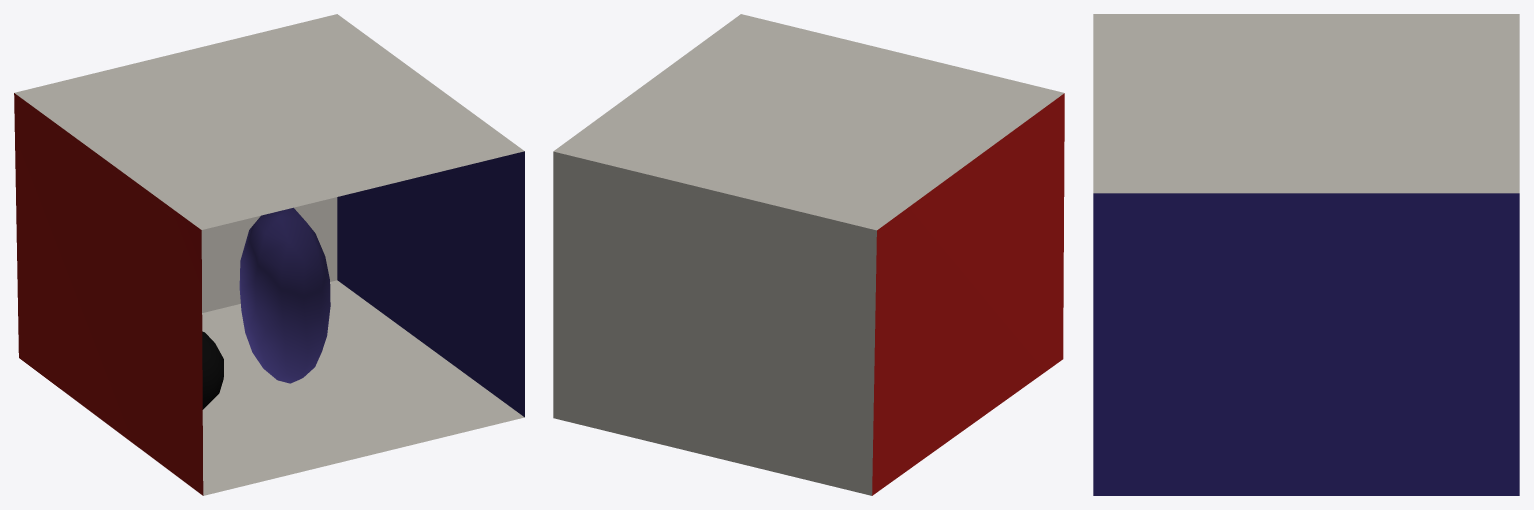
The model's file is CornellBox-Ellipsoid-336.obj.
3 views of the same model, side by side, from view 1: azimuth 30°, elevation 25°; view 2: azimuth 150°, elevation 25°; view 3: azimuth 270°, elevation 25° (orthographic). The views are drawn at different scales.
Parts seen in each view (by area): view 1: ceiling, leftWall, floor, rightWall, leftSphere, backWall, rightSphere; view 2: backWall, ceiling, leftWall; view 3: rightWall, ceiling.
Boxes of the visible parts, box(x1,y1,x2,y2) form: ceiling: box(14, 14, 524, 229); leftWall: box(14, 93, 203, 495); floor: box(202, 280, 524, 495); rightWall: box(337, 151, 524, 417); leftSphere: box(239, 207, 330, 383); backWall: box(201, 197, 337, 312); rightSphere: box(202, 331, 223, 409); backWall: box(553, 151, 876, 495); ceiling: box(553, 14, 1064, 230); leftWall: box(872, 93, 1064, 495); rightWall: box(1093, 193, 1519, 495); ceiling: box(1093, 14, 1519, 193).
Size of the model in its own units: 2.02 by 1.59 by 2.03.
